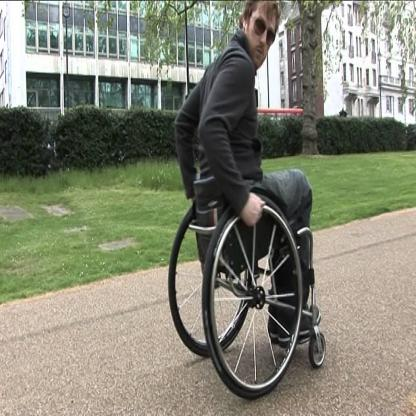wheelchair: (164, 0, 327, 403)
